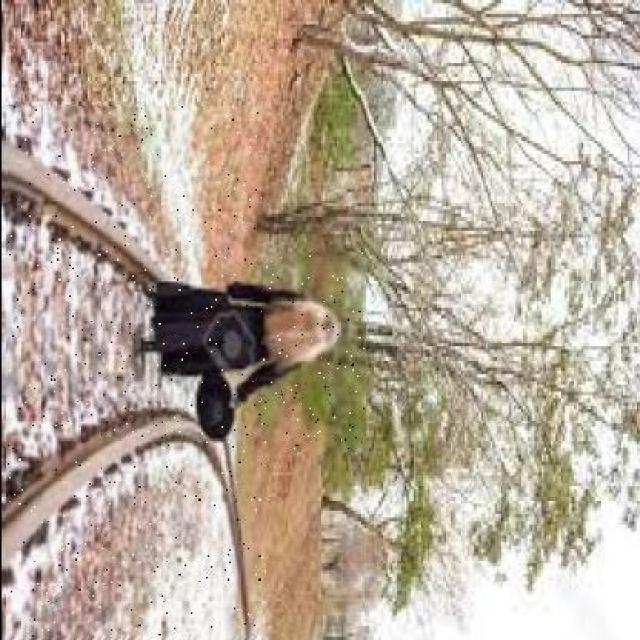rail: (7, 108, 265, 639)
